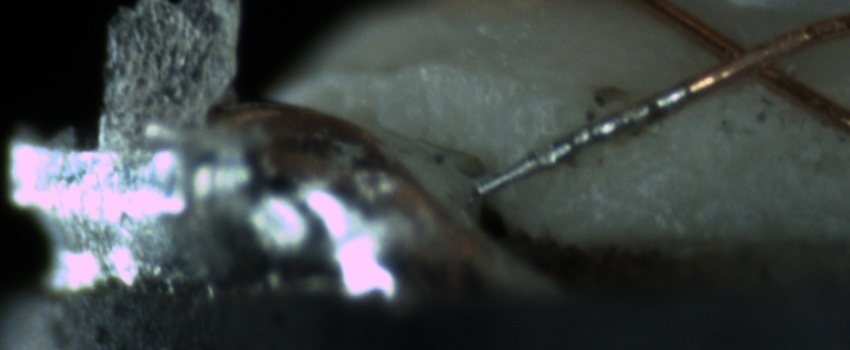CL: (692, 23, 796, 92)
TS: (470, 82, 689, 196)
TTCW: (471, 64, 721, 197)
